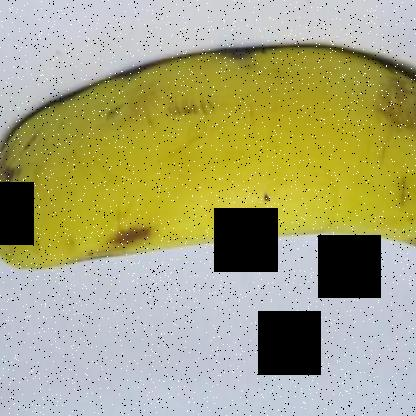freshripe: (0, 34, 415, 290)
